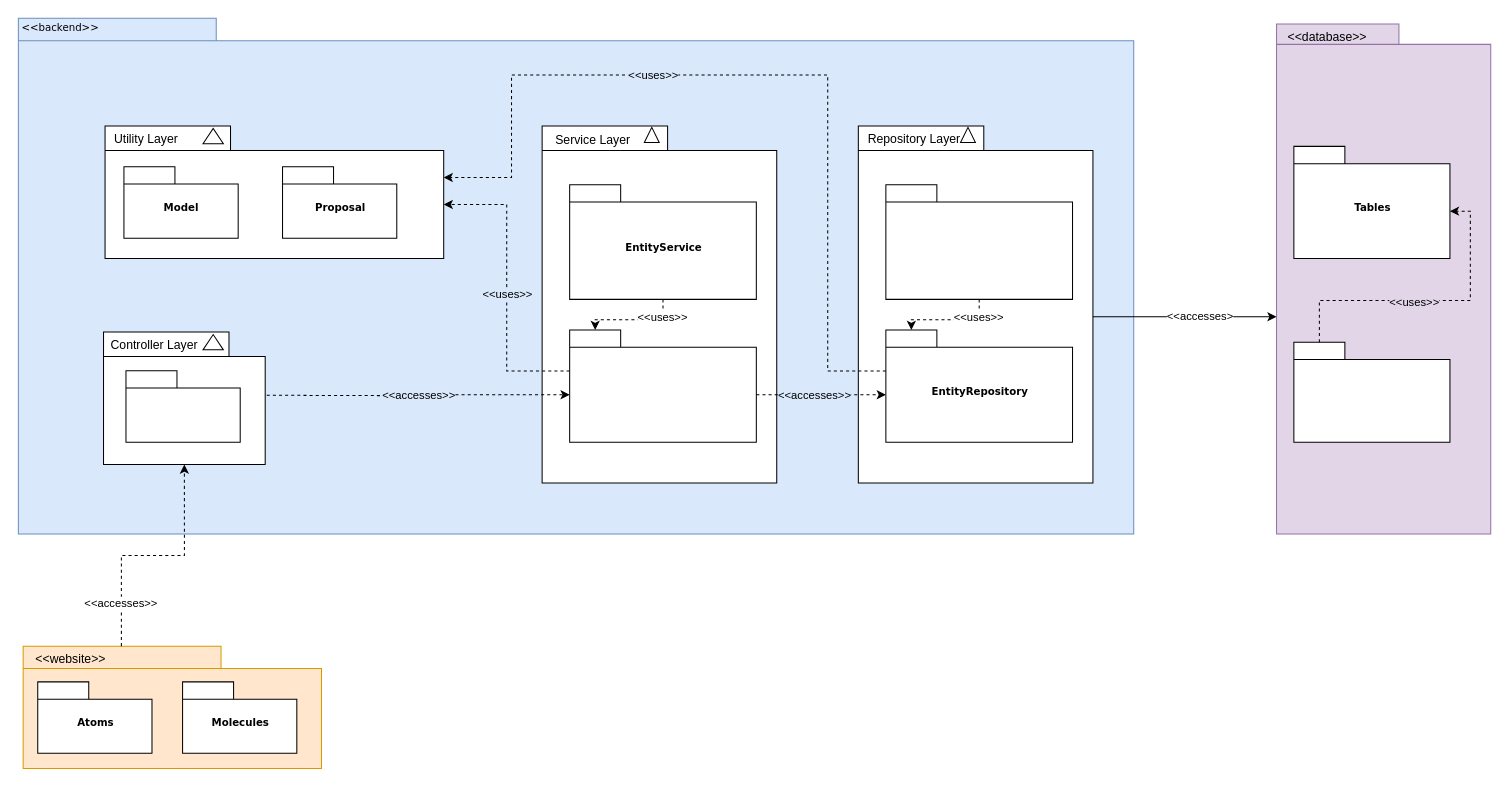
Some shapes in this 1509 by 786 pixel diagram are drawn without their labels. Here are the shapes that lost their labels. From the top down, the centre of each, then its label:
At pixel 979 241: "SpringEntityRepository".
At pixel 662 385: "EntityServiceImplementation".
At pixel 1371 391: "Views".
At pixel 182 406: "EntityController".
